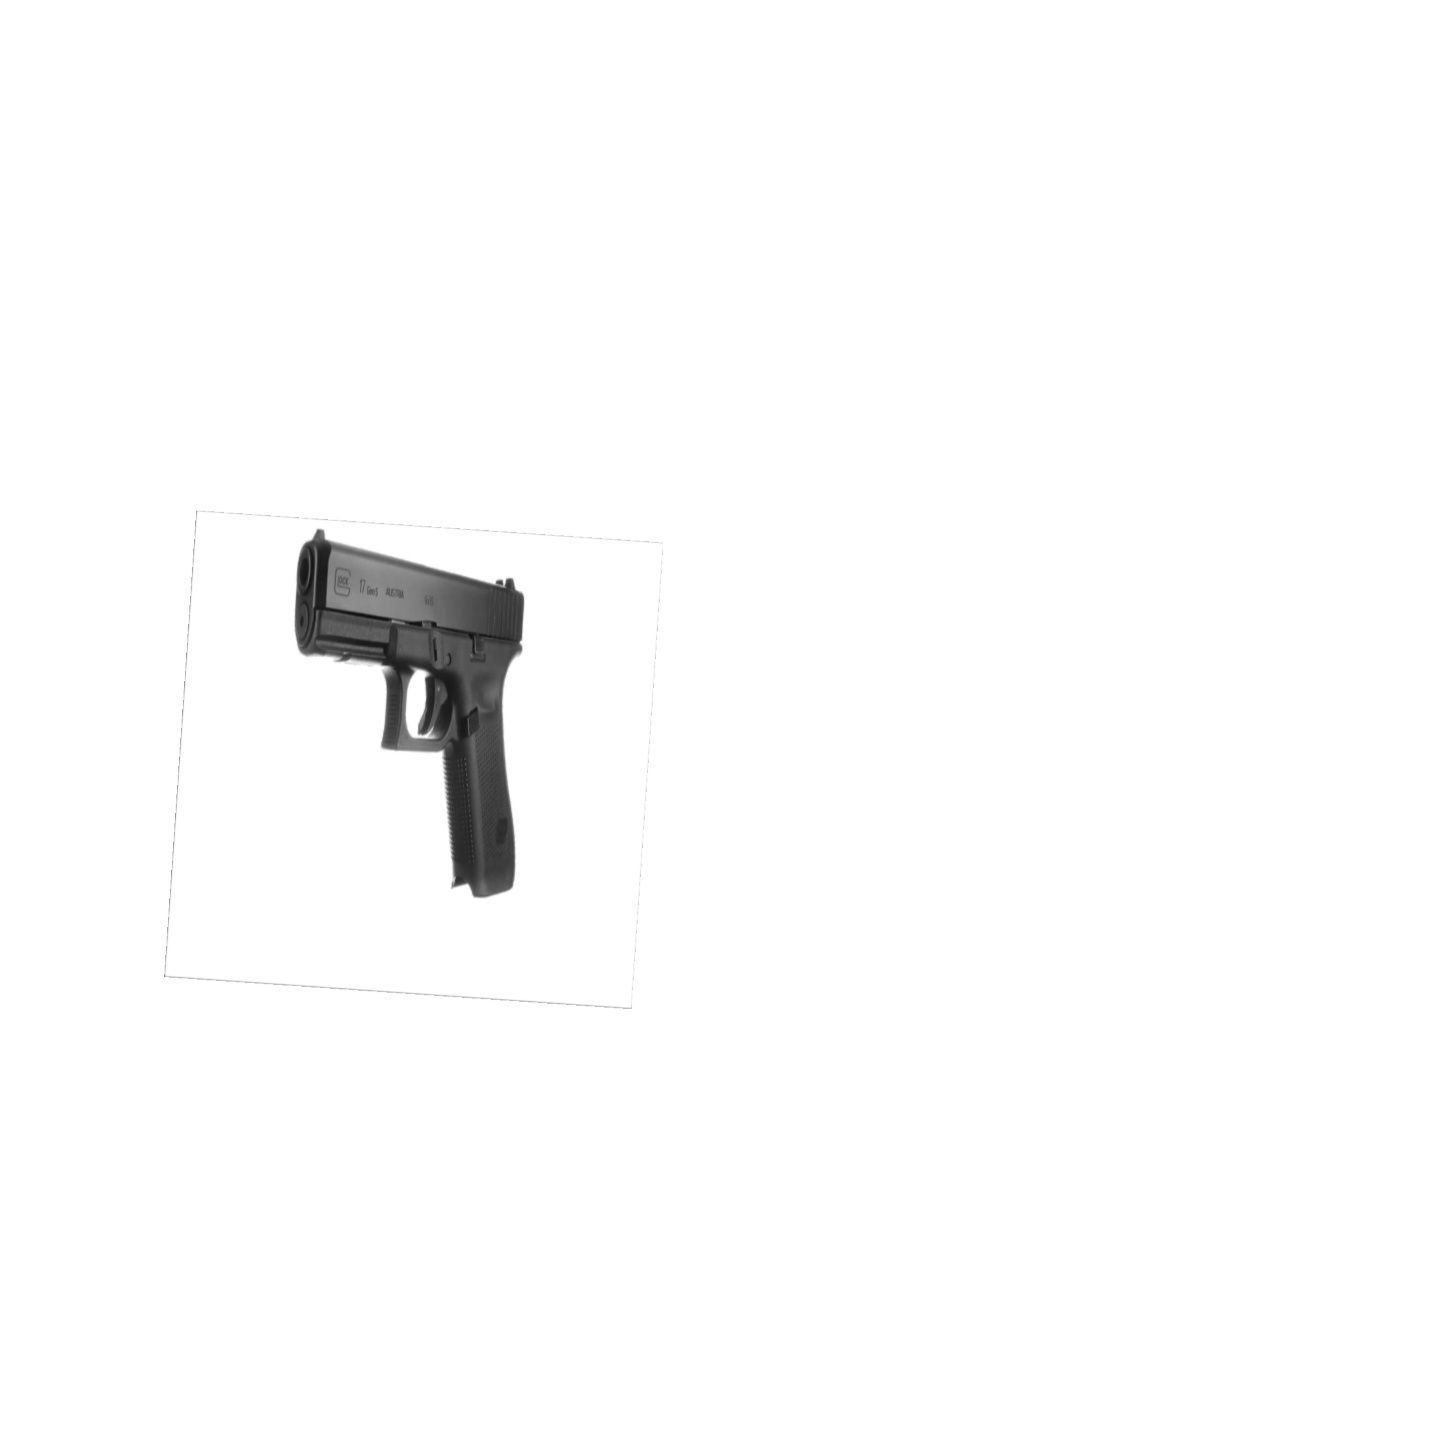gun: (298, 525, 518, 893)
